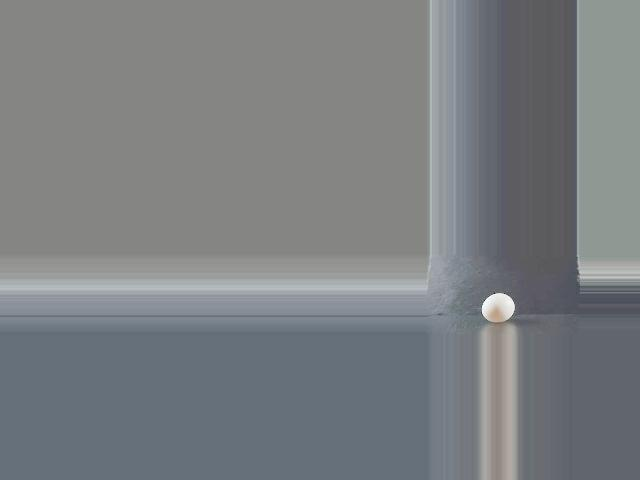egg: (481, 292, 514, 322)
